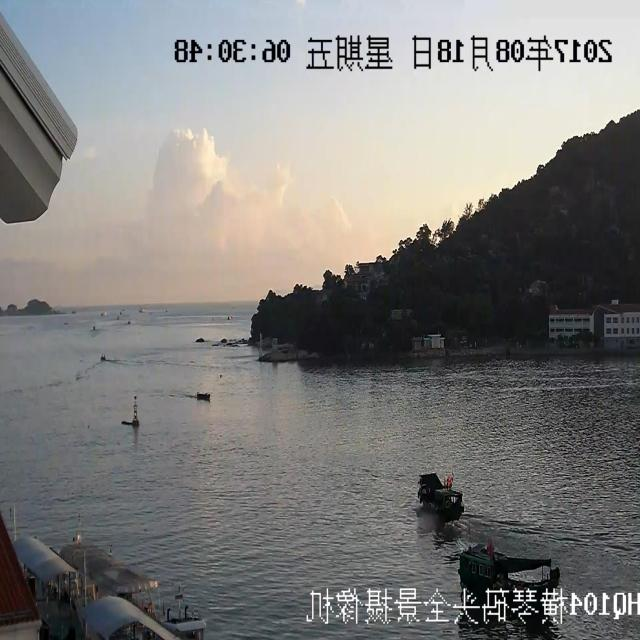buoy: (128, 382, 142, 444)
houseboat: (436, 516, 559, 618), (412, 461, 471, 530)
